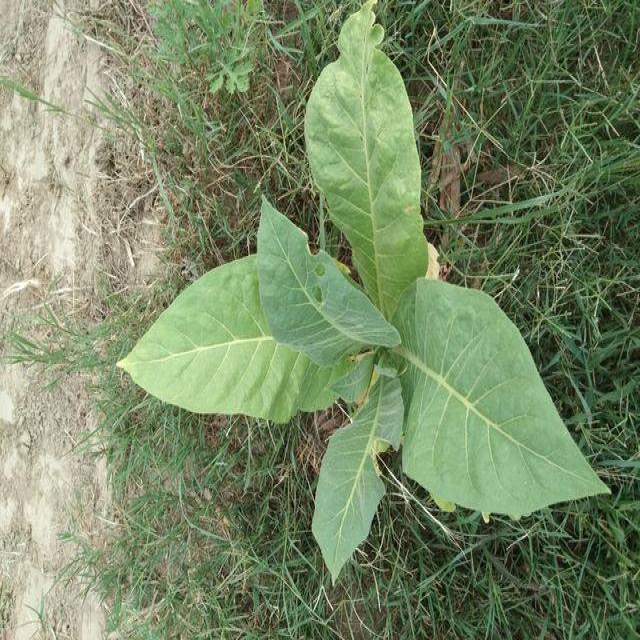crop: (120, 14, 607, 568)
